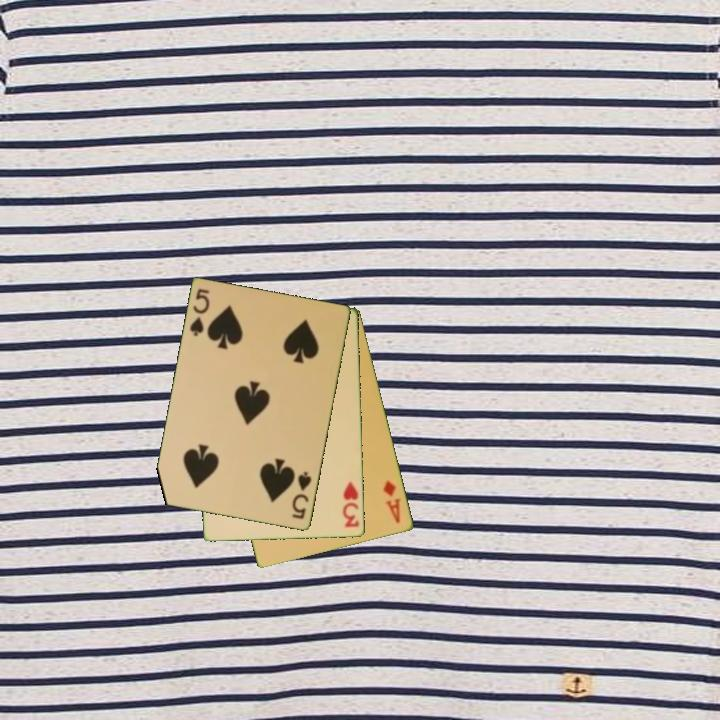3h: (339, 478, 362, 531)
5s: (186, 285, 213, 339), (289, 468, 315, 522)
Ad: (380, 477, 404, 527)
